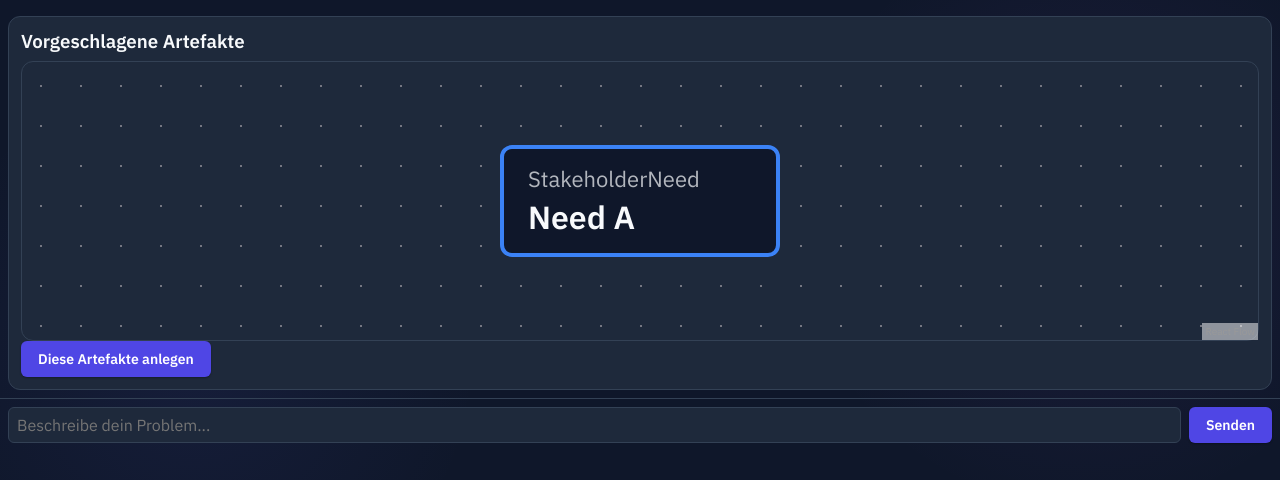
Test case: InterviewChatPane multi-mode › shows the createdBadge i18n copy as badge title
Click the button with test id "interview-multi-confirm".
click(116, 359)  # box [21,341,211,377]
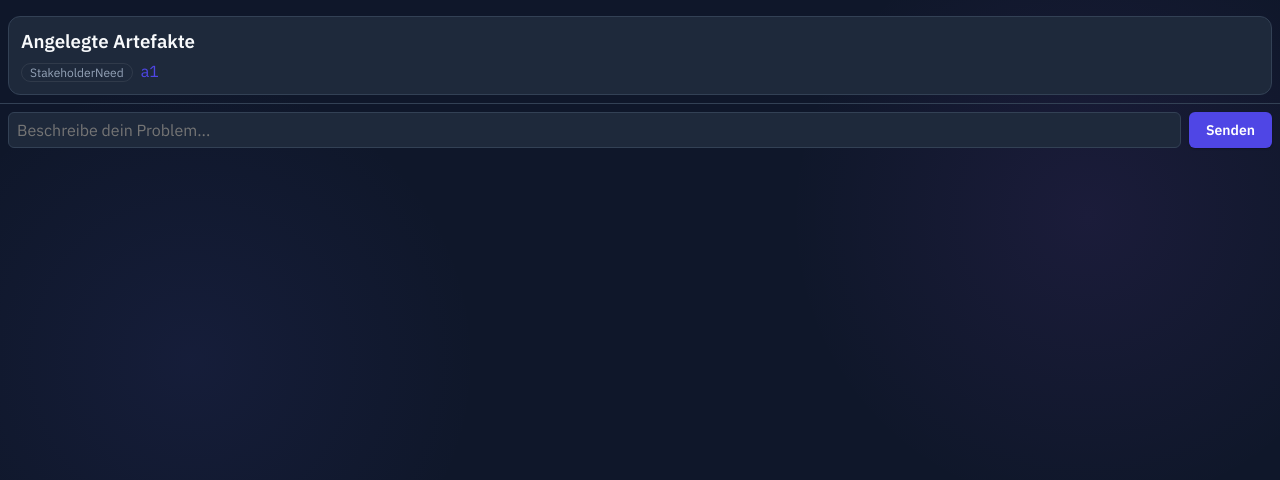
Expected: the text titled "Angelegt via Interview" reads "StakeholderNeed", [30,65,124,80]
Expected: the element with test id "interview-multi-result" is shown, [8,16,1272,95]
